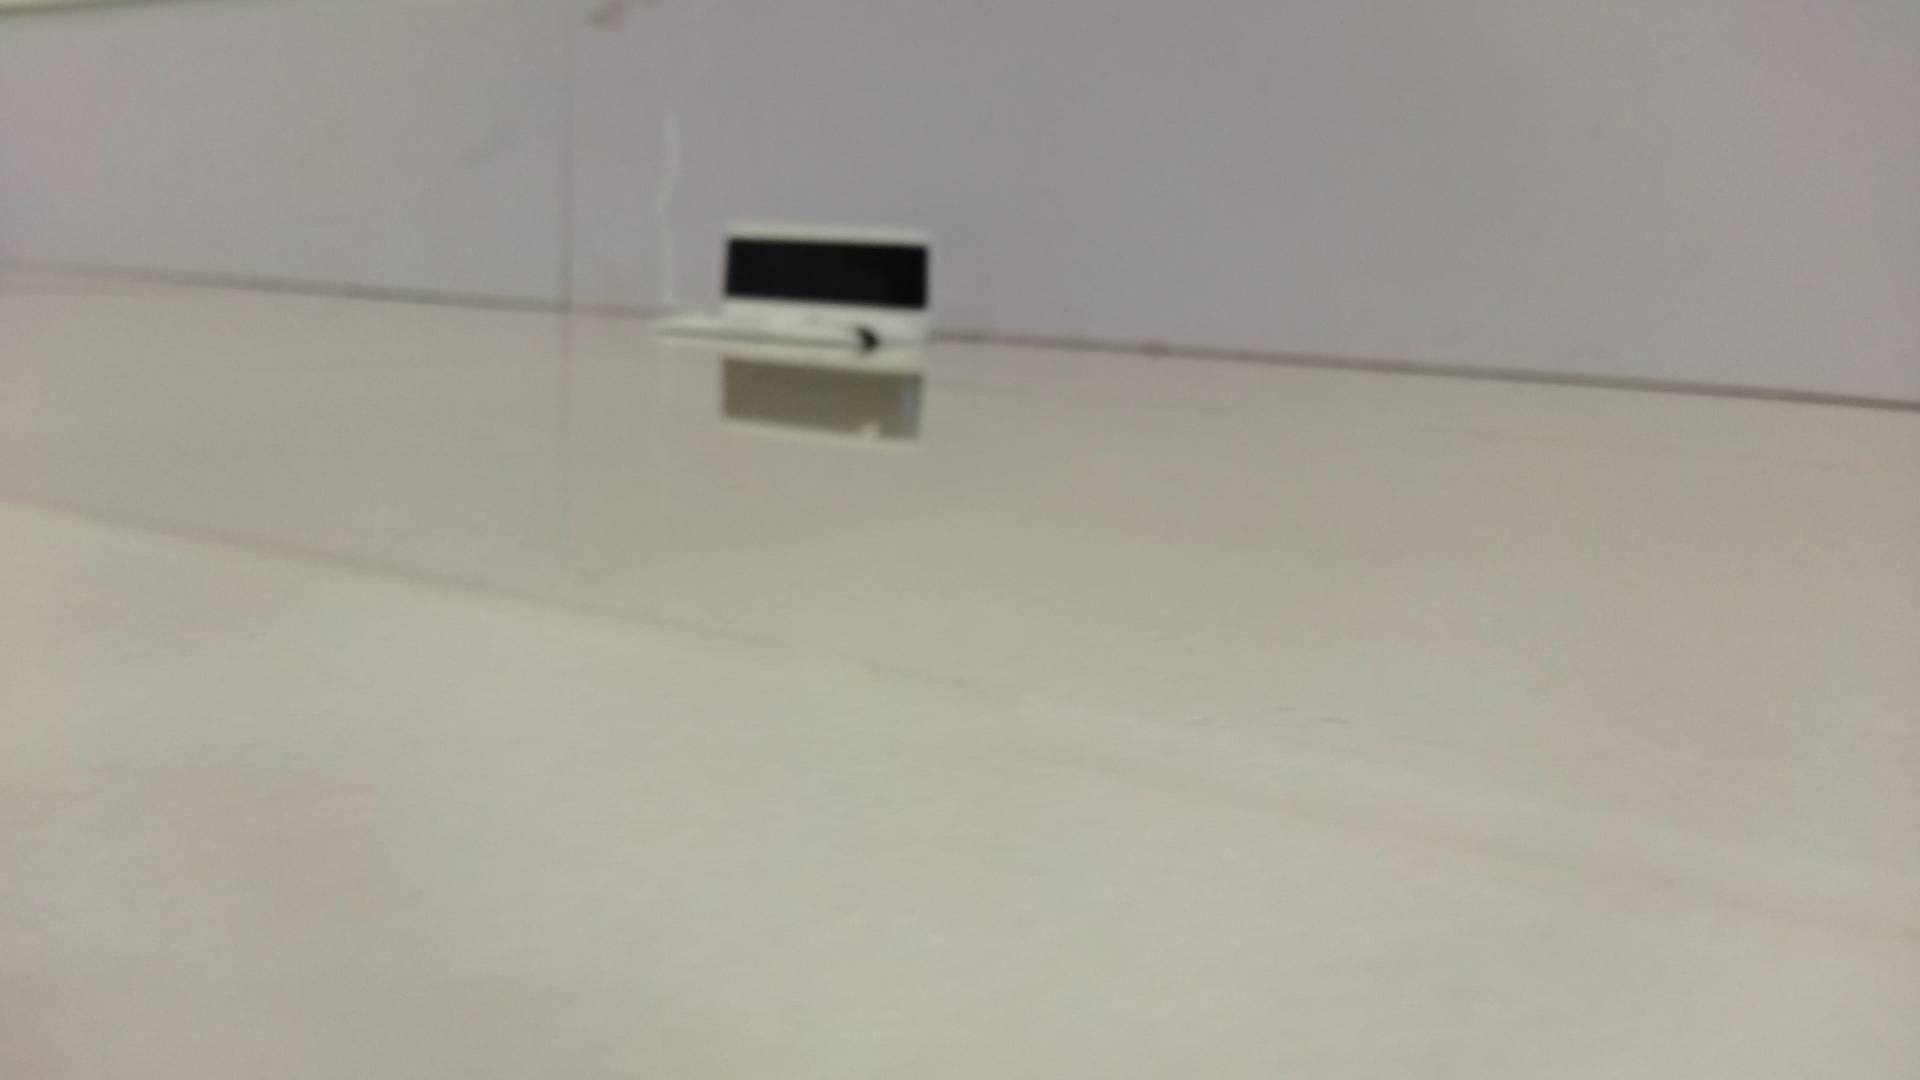recharge seat: (653, 220, 947, 342)
